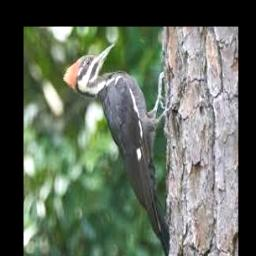Woodpecker: (62, 44, 171, 256)
